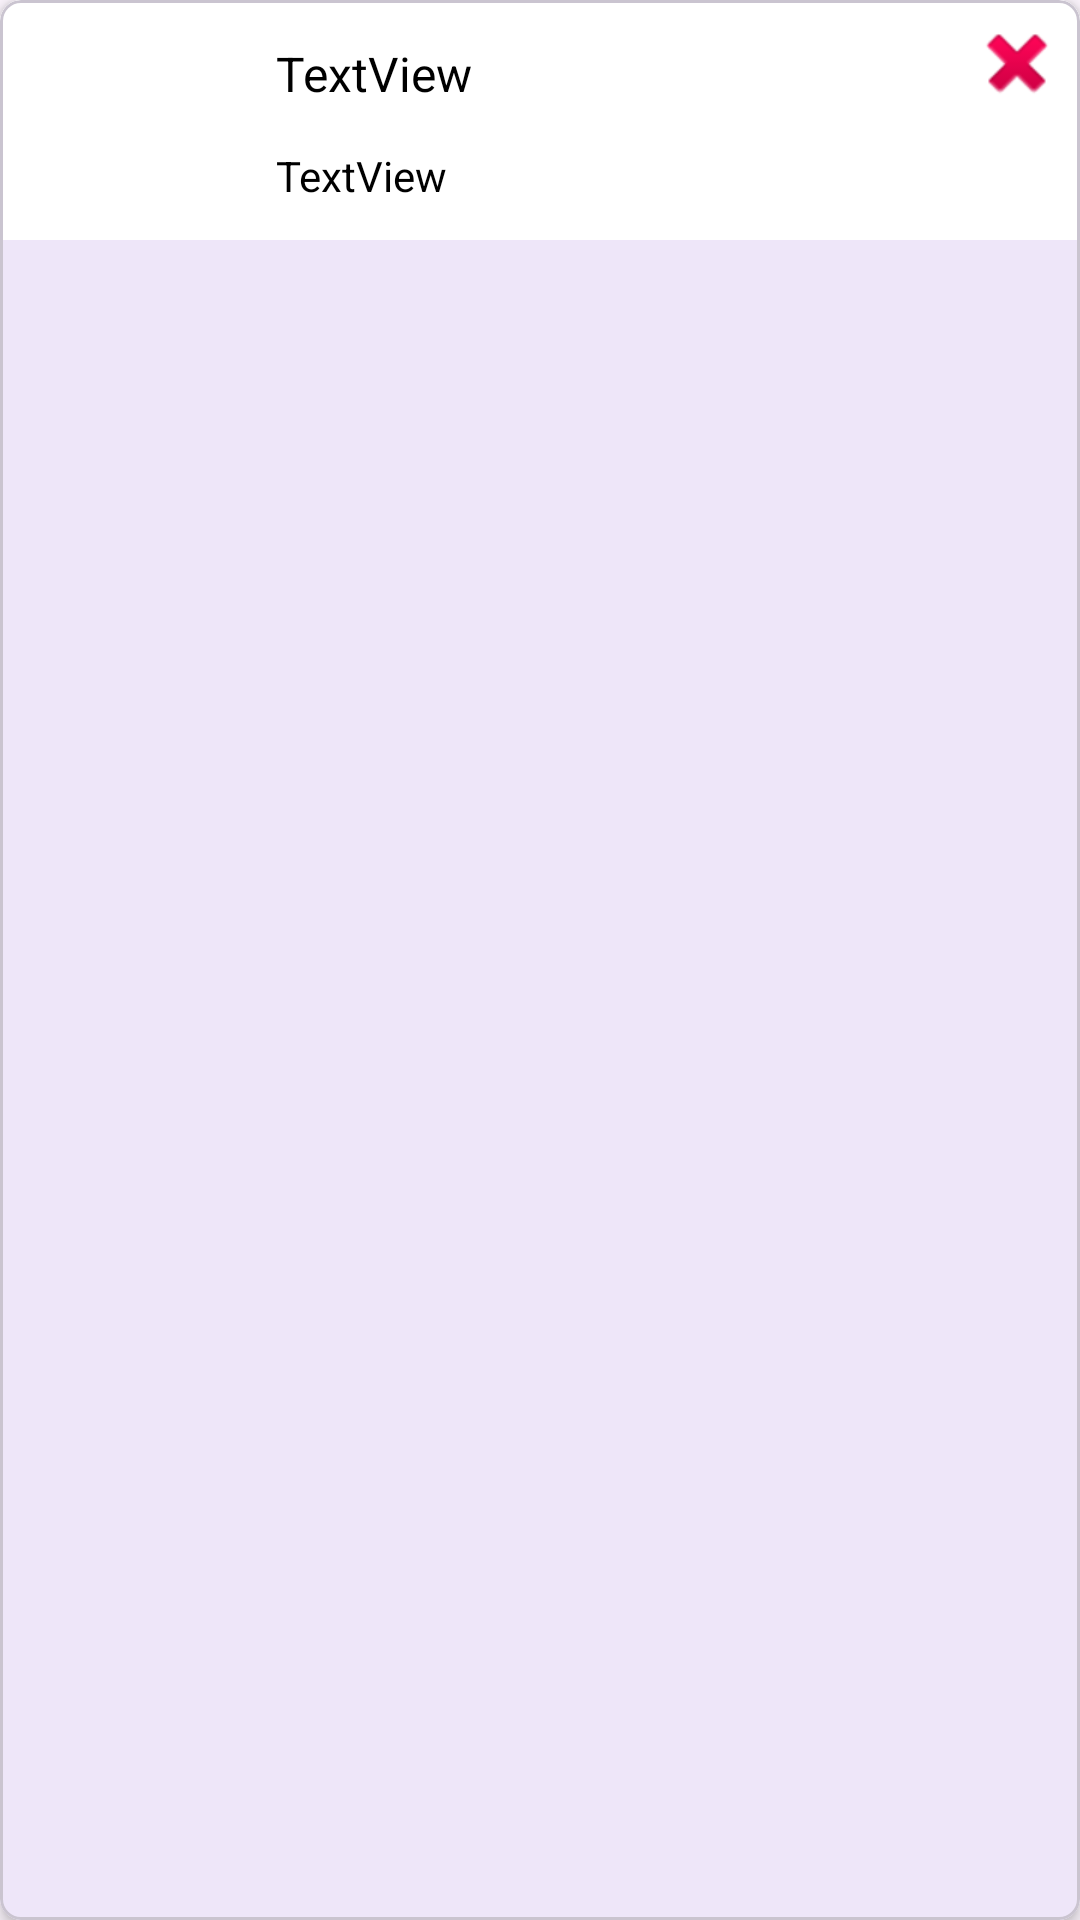

Icon bounding boxes for this 1080 x 1920 phone screenshot, format {"x1": x1, "y1": y1, "x2": x2, "y2": y2}:
delete: {"x1": 986, "y1": 34, "x2": 1048, "y2": 93}
